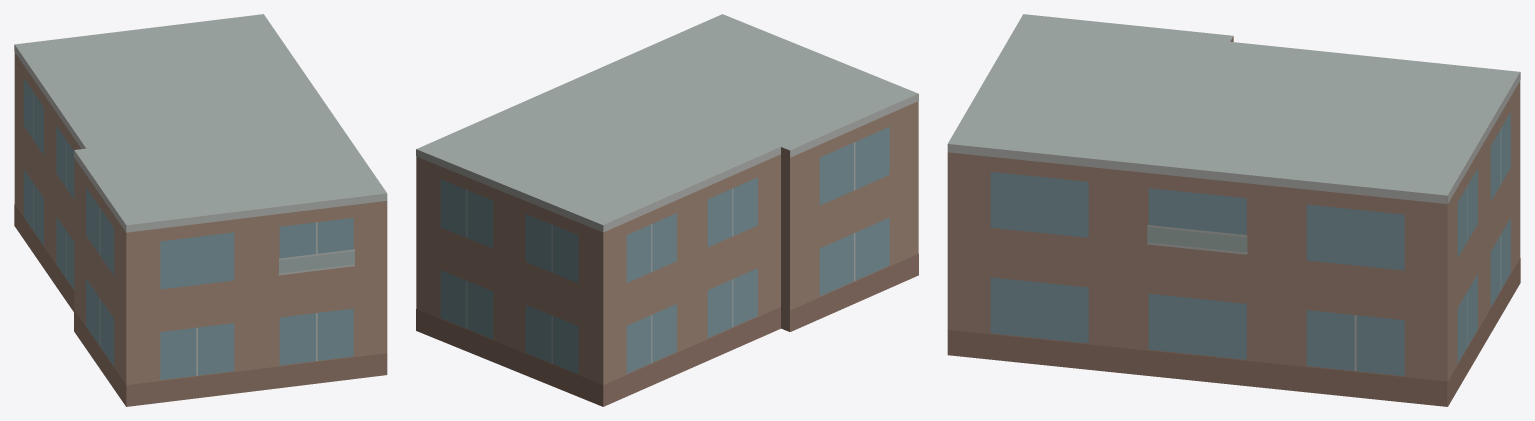
The model's file is survey-upis-32806383.glb.
The picture shows the model from 3 angles, left to right: view 1: azimuth 30°, elevation 25°; view 2: azimuth 150°, elevation 25°; view 3: azimuth 270°, elevation 25°; orthographic projection. The views are drawn at different scales.
Visible parts, largest first — view 1: survey-upis-32806383.tmp; view 2: survey-upis-32806383.tmp; view 3: survey-upis-32806383.tmp.
Boxes of the visible parts, x1,y1,x2,y2 form: survey-upis-32806383.tmp: [14, 14, 387, 406]; survey-upis-32806383.tmp: [416, 14, 918, 406]; survey-upis-32806383.tmp: [947, 14, 1520, 406].
Bounding box in the file's own units: 11.26 × 6.1 × 15.
